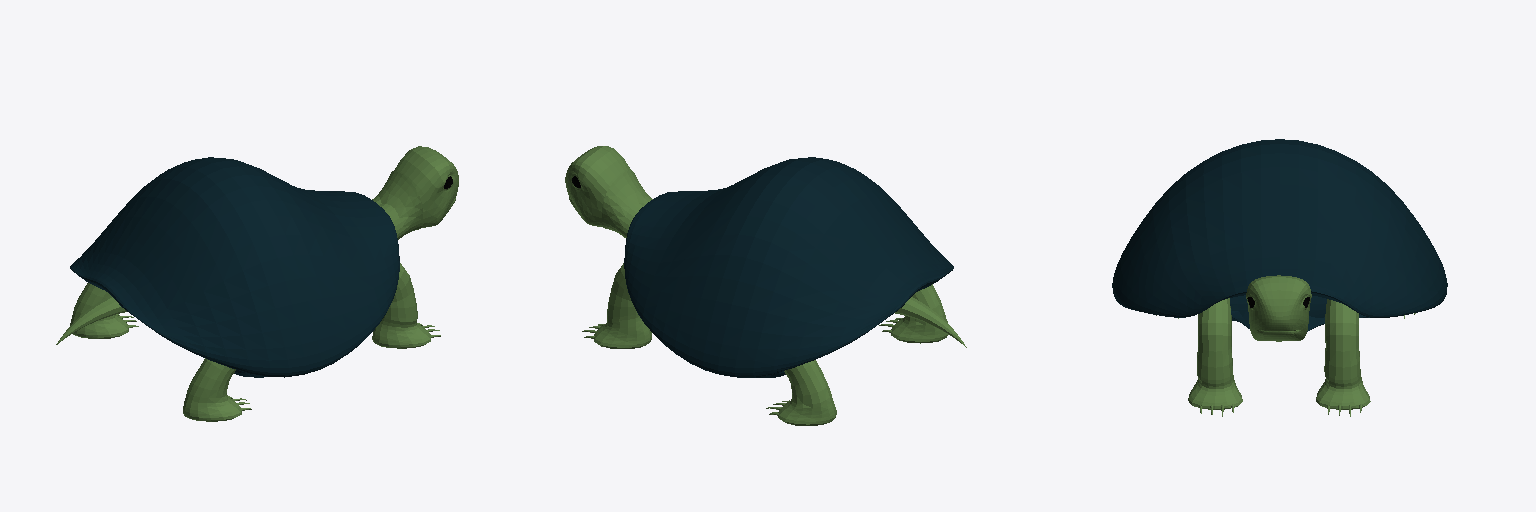
File: turtle.obj
3 renders of one model, left to right at view 1: azimuth 30°, elevation 25°; view 2: azimuth 150°, elevation 25°; view 3: azimuth 270°, elevation 25°, orthographic.
Visible parts, largest first — view 1: Box01, Tartaruga, Object04, Object01, Object05, Cone01; view 2: Box01, Tartaruga, Object05, Object02, Object04, Cone01; view 3: Box01, Object02, Object01, Tartaruga.
Part boxes in pixels (left/top/right/bottom): Box01: left=70, top=157, right=399, bottom=377; Tartaruga: left=372, top=146, right=458, bottom=239; Object04: left=183, top=358, right=251, bottom=421; Object01: left=372, top=263, right=440, bottom=348; Object05: left=70, top=283, right=138, bottom=338; Cone01: left=56, top=295, right=126, bottom=344; Box01: left=624, top=157, right=953, bottom=377; Tartaruga: left=565, top=146, right=652, bottom=237; Object05: left=766, top=360, right=836, bottom=425; Object02: left=582, top=263, right=651, bottom=348; Object04: left=879, top=284, right=947, bottom=343; Cone01: left=895, top=297, right=966, bottom=347; Box01: left=1112, top=139, right=1447, bottom=331; Object02: left=1316, top=299, right=1370, bottom=416; Object01: left=1188, top=298, right=1242, bottom=416; Tartaruga: left=1246, top=275, right=1311, bottom=341.
Bounding box in the file's own units: 214 × 97.81 × 155.